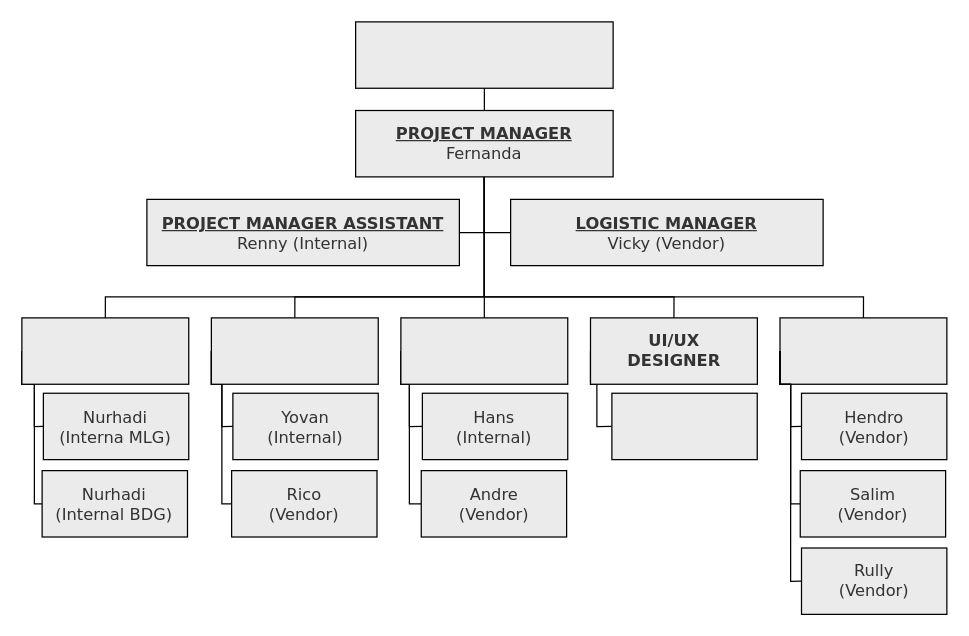
The diagram is 969 pixels wide and 636 high, and some of its shapes have lost their labels. The centre of each missing label's shape, as x and y in pixels:
BACK END PROGRAMMER: the point at 484,350
Eka (Vendor): the point at 684,426
ELECTRICAL CONTRACTOR: the point at 863,350
FRONT END PROGRAMMER: the point at 294,350
KOORDINATOR KEBUN: the point at 105,350
PROJECT SPONSOR (CEO) Brian: the point at 483,54
